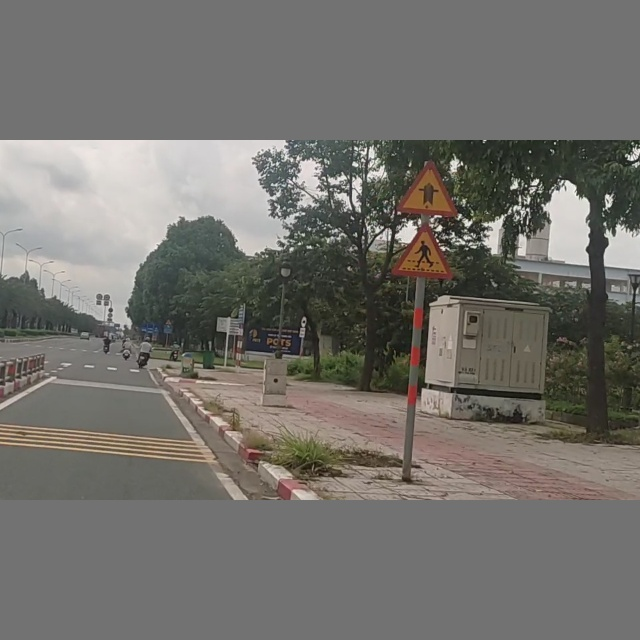W.207: (395, 159, 460, 217)
W.224: (389, 223, 453, 279)
